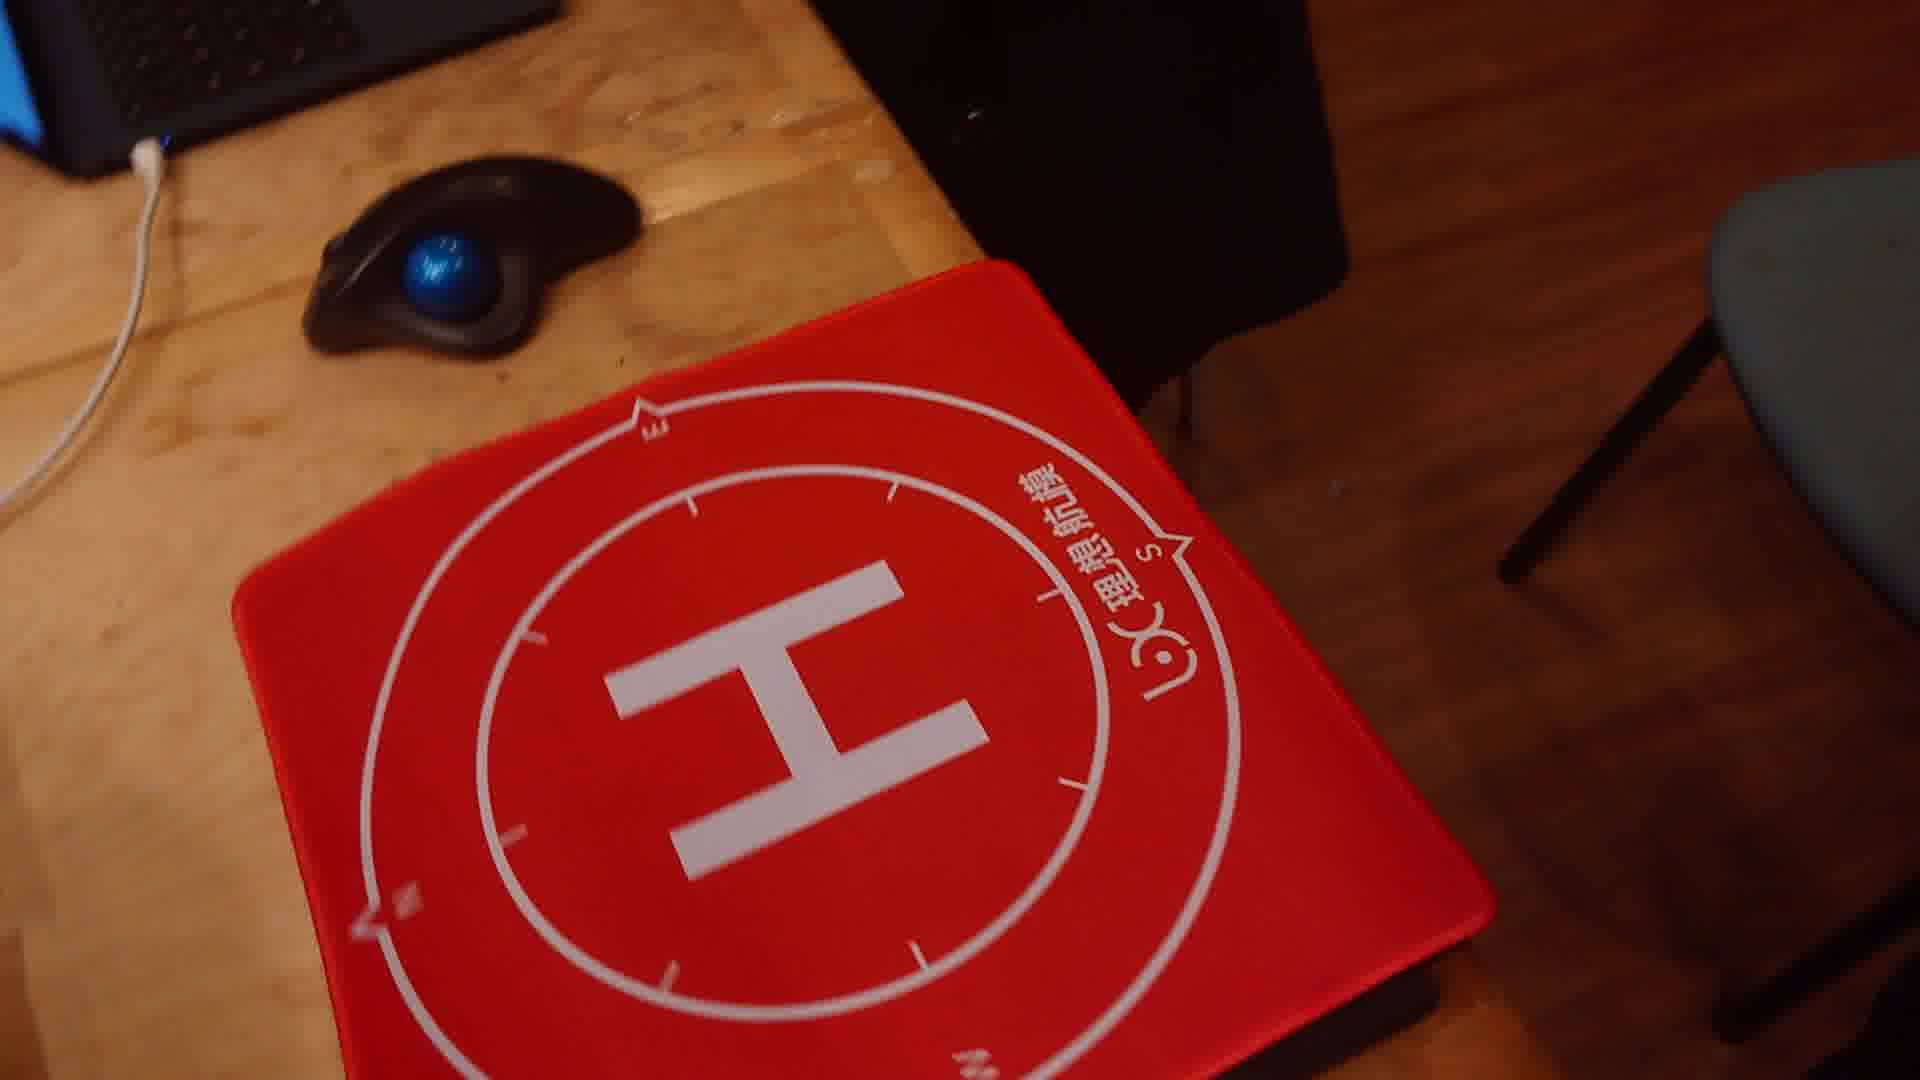H: (601, 556, 992, 887)
